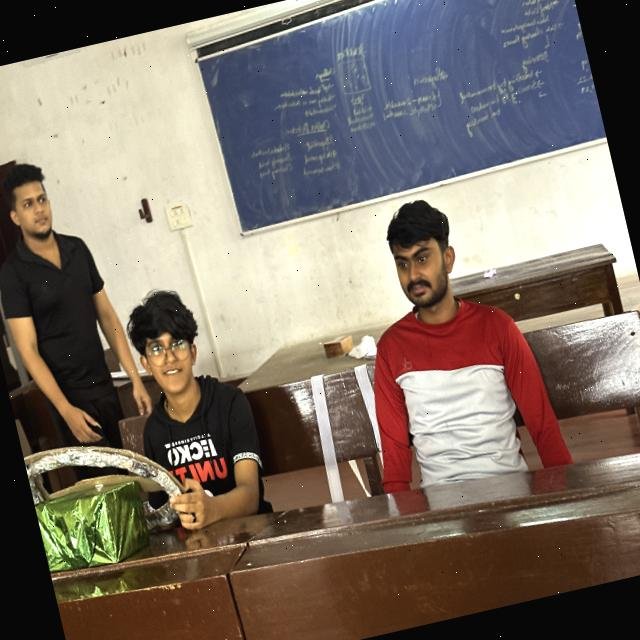no-seatbelt: (338, 294, 570, 522), (119, 366, 272, 552)
